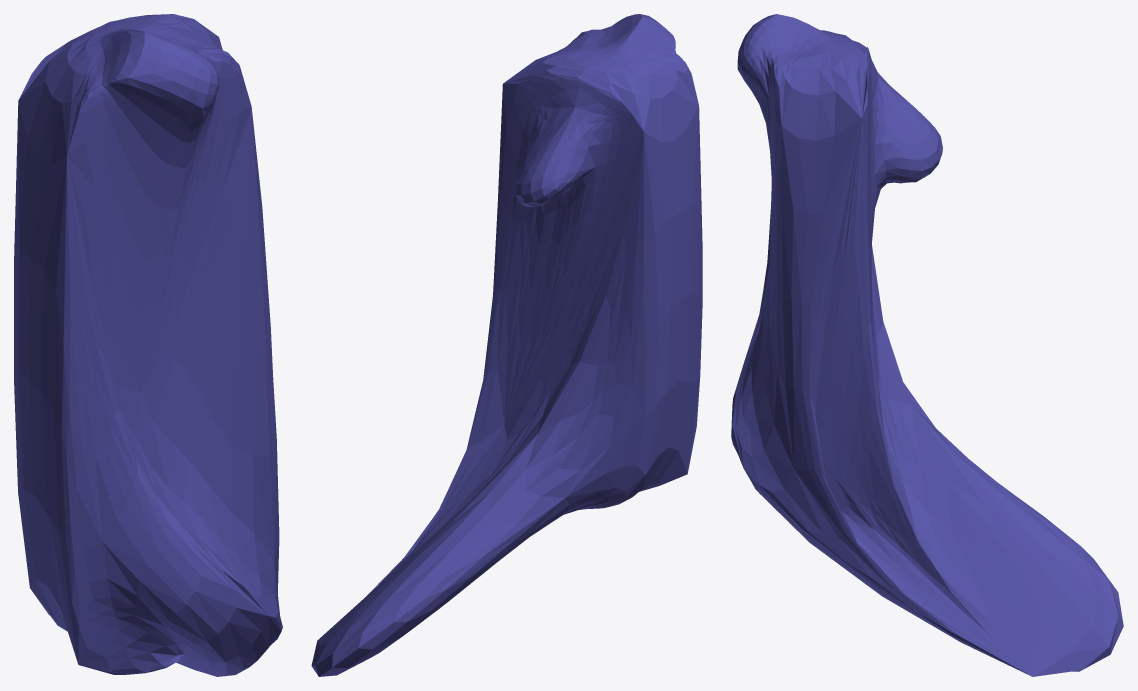
The picture shows the model from 3 angles, left to right: view 1: azimuth 30°, elevation 25°; view 2: azimuth 150°, elevation 25°; view 3: azimuth 270°, elevation 25°; orthographic projection. The views are drawn at different scales.
Visible parts, largest first — view 1: 263_Cube.1077; view 2: 263_Cube.1077; view 3: 263_Cube.1077.
Boxes of the visible parts, x1,y1,x2,y2 form: 263_Cube.1077: (14, 14, 282, 676); 263_Cube.1077: (311, 14, 702, 676); 263_Cube.1077: (731, 14, 1123, 676).
Size of the model in its own units: 7.27 by 15.76 by 9.72.
